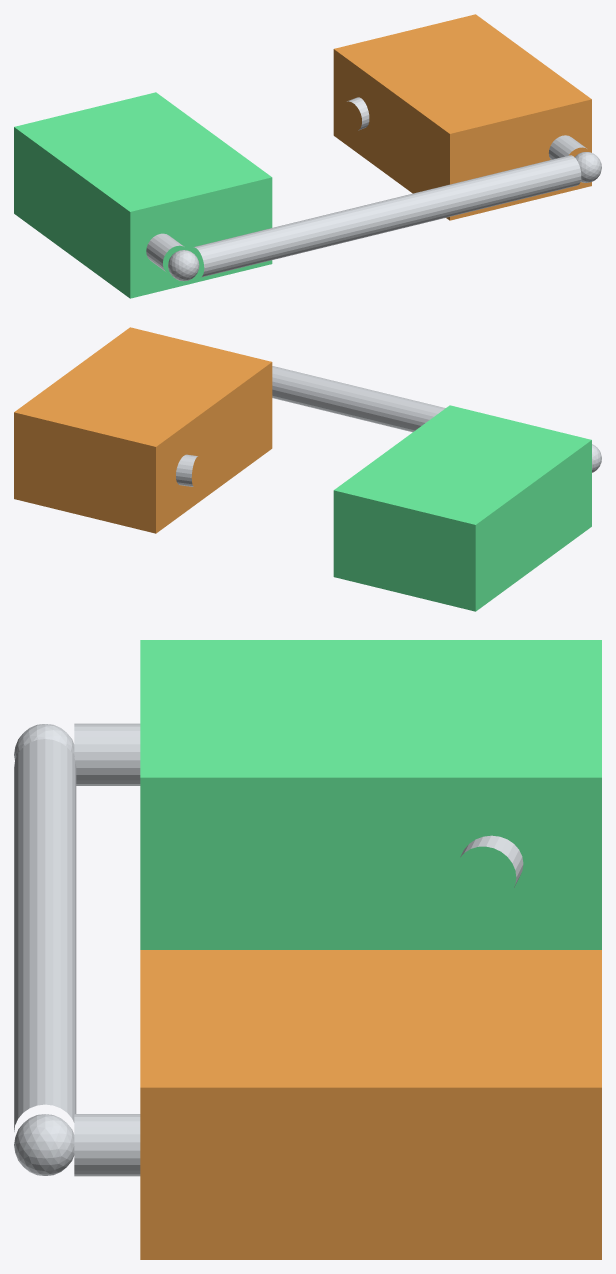
The model's file is dranmar_closure_staple_retention_debug.glb.
3 renders of one model, top to bottom at view 1: azimuth 30°, elevation 25°; view 2: azimuth 150°, elevation 25°; view 3: azimuth 270°, elevation 25°, orthographic. The views are drawn at different scales.
Visible parts, largest first — view 1: left_leg_attachment, right_leg_attachment, formed_staple; view 2: left_leg_attachment, right_leg_attachment, formed_staple; view 3: right_leg_attachment, left_leg_attachment, formed_staple.
Boxes of the visible parts, x1,y1,x2,y2 form: left_leg_attachment: (14,92,272,298); right_leg_attachment: (333,14,591,220); formed_staple: (146,97,601,281); left_leg_attachment: (333,405,591,611); right_leg_attachment: (14,327,272,533); formed_staple: (176,366,601,486); right_leg_attachment: (140,950,601,1259); left_leg_attachment: (140,640,601,949); formed_staple: (14,723,523,1176).
Size of the model in its own units: 0.0078 by 0.0014 by 0.00433.
